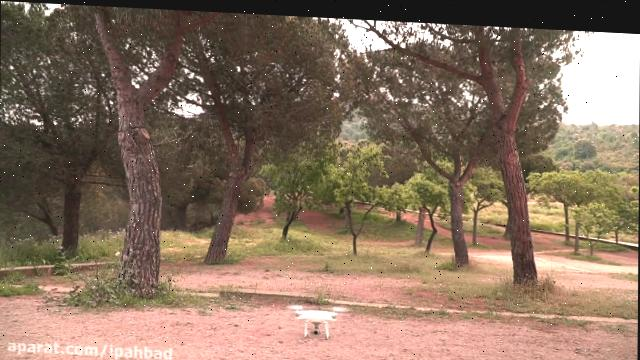drone: (284, 298, 348, 336)
